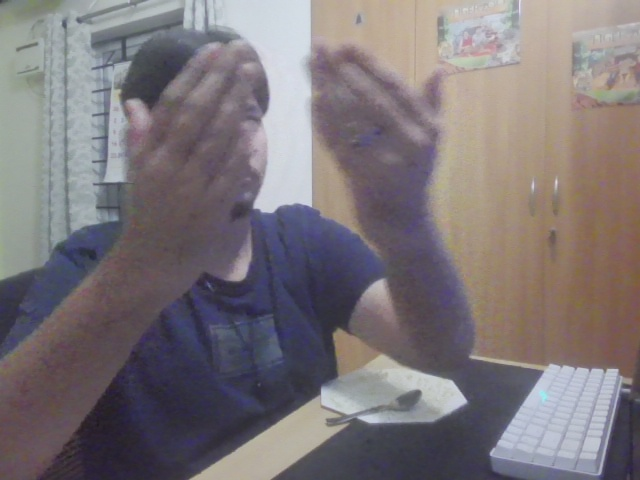thankyou: (122, 34, 448, 260)
